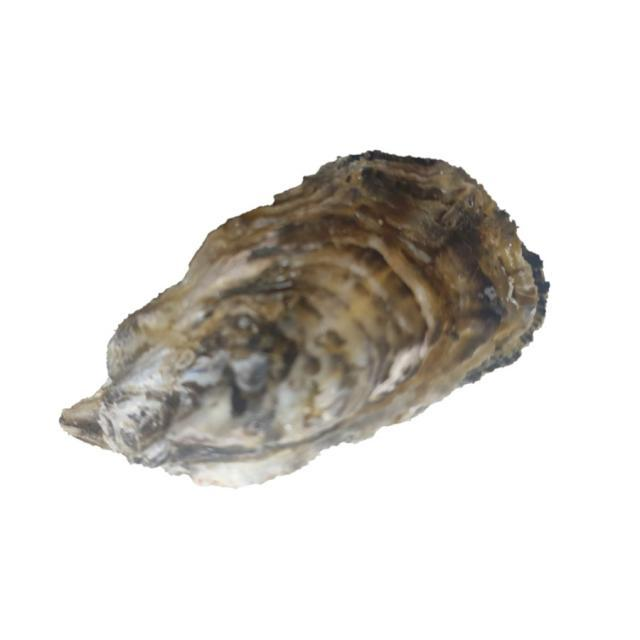Oyster- Indeterminate: (57, 151, 550, 493)
